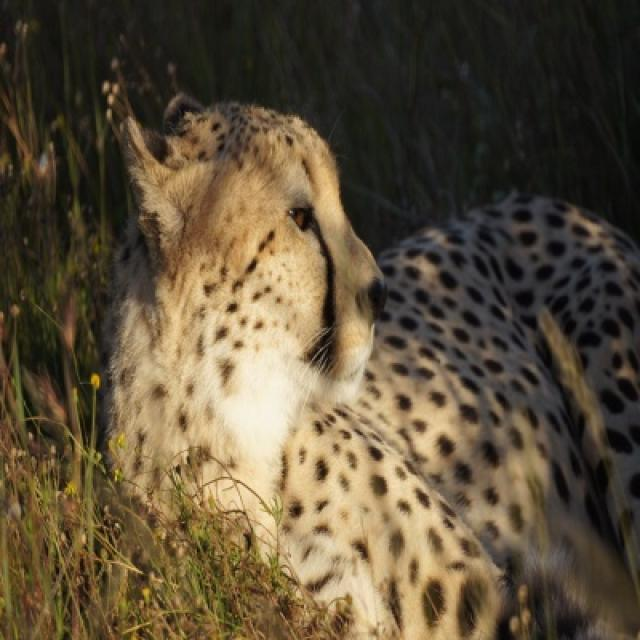Cheetah: (107, 94, 638, 638)
